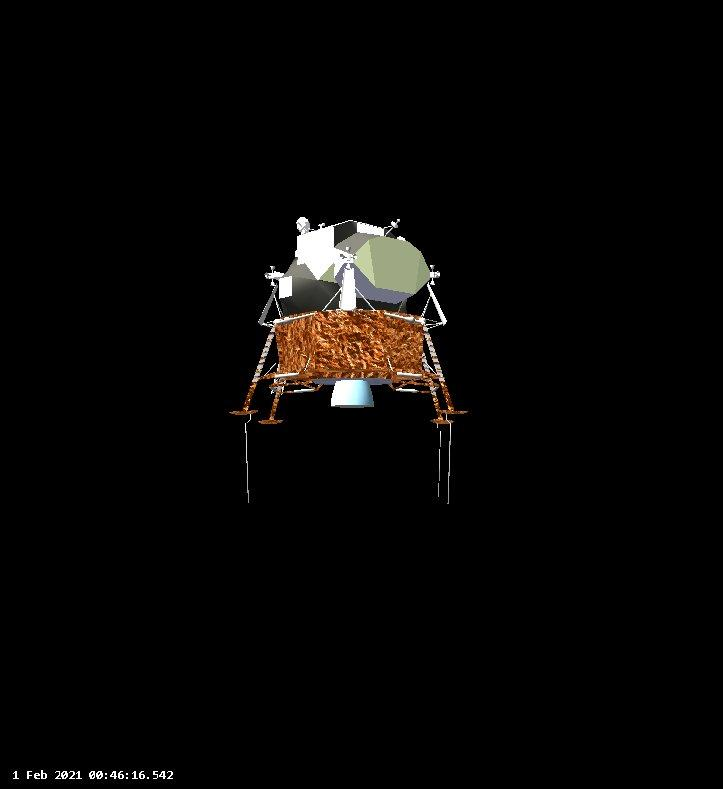antenna: (435, 405, 470, 420), (228, 406, 261, 421), (294, 213, 315, 235), (383, 215, 404, 235), (428, 415, 456, 429), (255, 416, 286, 425)
body: (272, 219, 431, 387)
thruster: (329, 377, 377, 412), (264, 271, 274, 279), (269, 277, 277, 286), (429, 276, 436, 285), (345, 246, 352, 254), (339, 252, 347, 259), (350, 253, 358, 260), (429, 264, 436, 272), (270, 264, 276, 272), (436, 270, 442, 278), (346, 261, 351, 269)
